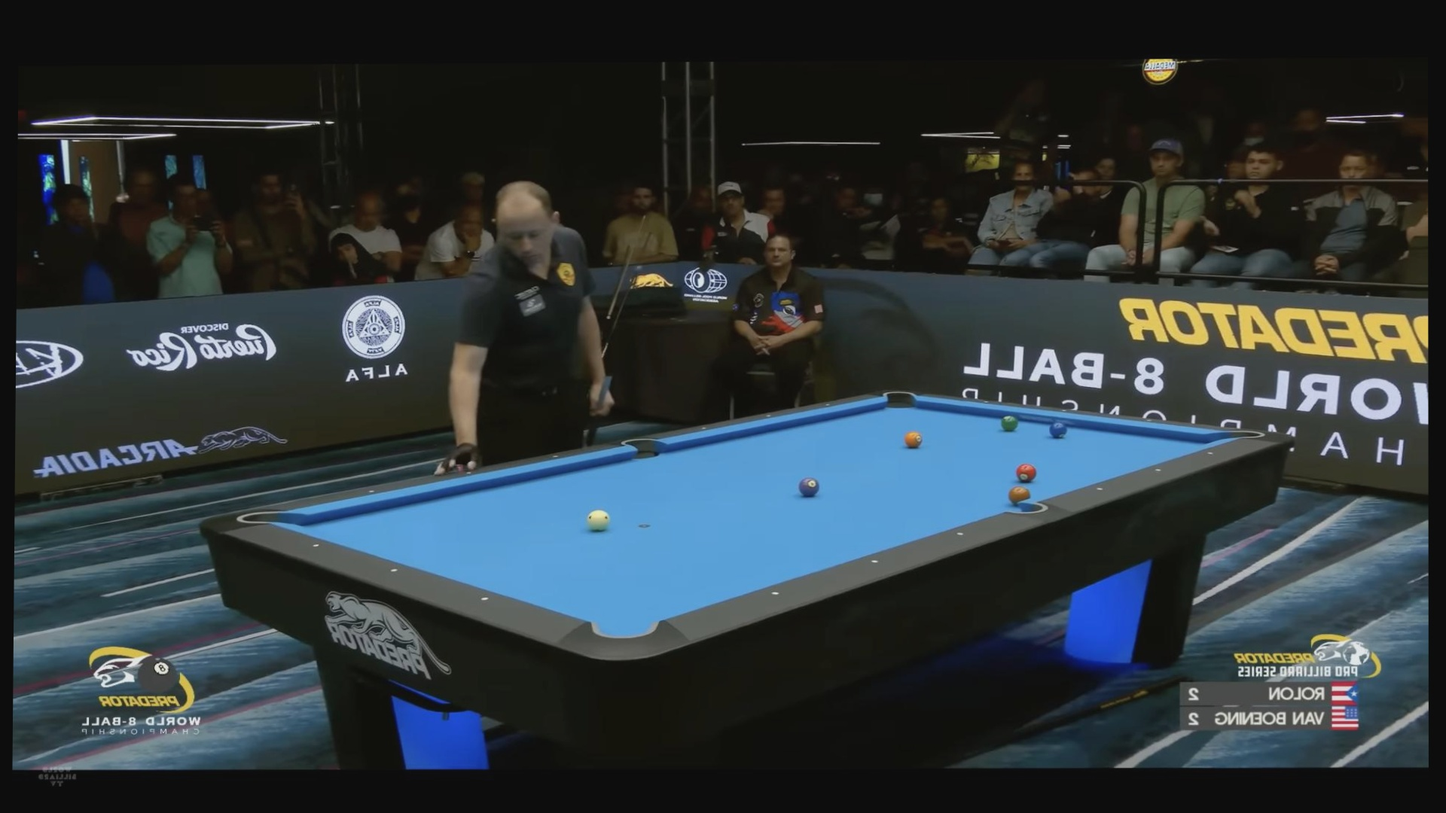Cue: (587, 509, 610, 532)
Solid: (869, 555, 881, 567), (769, 588, 782, 599), (954, 528, 967, 539), (1205, 449, 1216, 458), (480, 594, 490, 603), (389, 566, 399, 575), (311, 541, 321, 550), (463, 467, 473, 476), (1094, 484, 1104, 493), (1154, 466, 1164, 475), (367, 486, 376, 495), (551, 453, 560, 462), (1059, 406, 1068, 414), (1145, 417, 1153, 424), (982, 398, 990, 405), (701, 426, 707, 431), (766, 413, 772, 418), (825, 402, 831, 407)
Striped: (1008, 485, 1030, 505), (799, 477, 820, 497), (1016, 463, 1037, 482), (904, 431, 923, 448), (1049, 422, 1067, 438), (1001, 415, 1018, 431)
